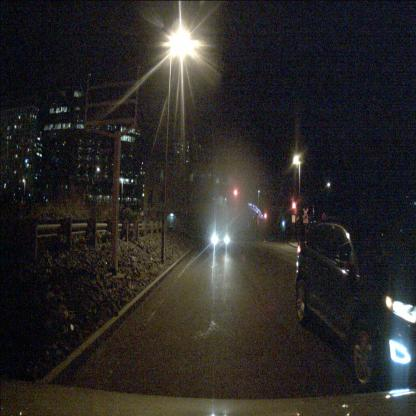vehicle-car: (294, 214, 416, 391), (211, 226, 230, 251)
